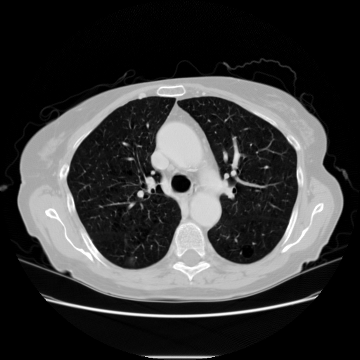nodule: (127, 256, 135, 264)
